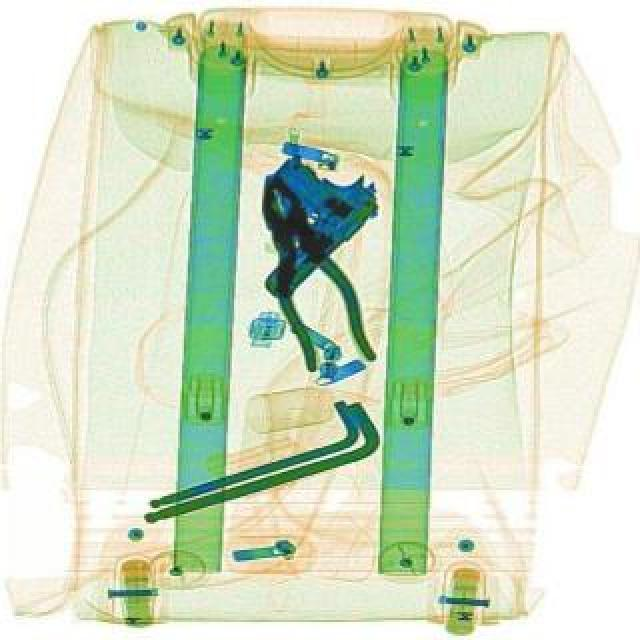gun: (206, 128, 398, 306)
wrench: (234, 158, 382, 382)
